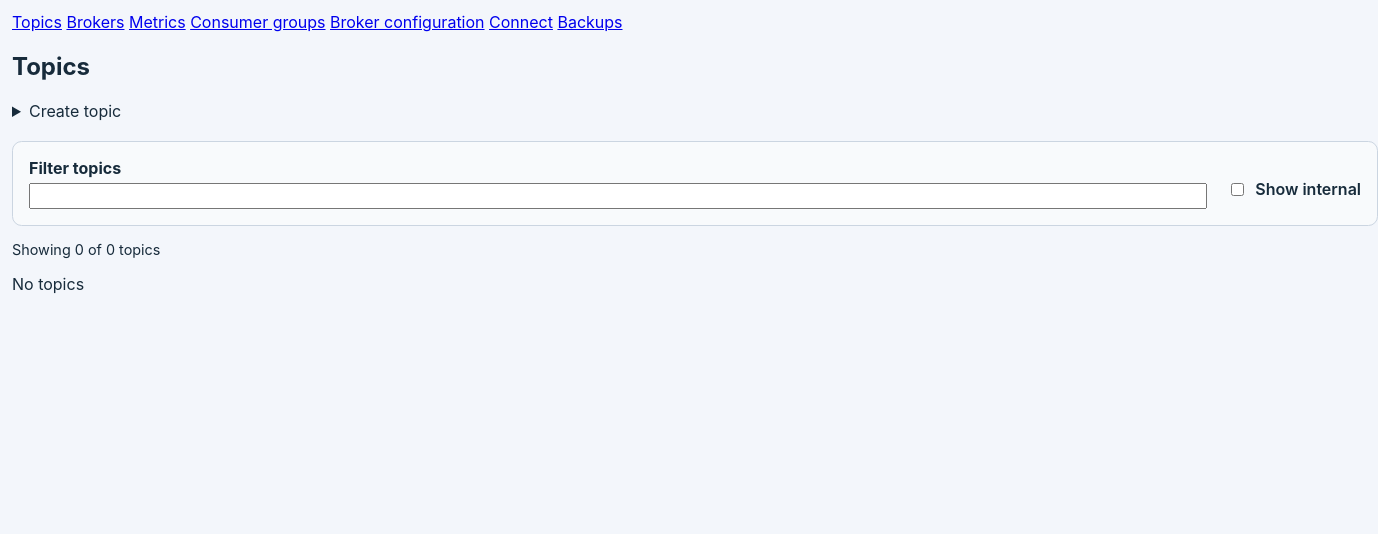
Scenario: ClusterPage › refreshes the topic list after creation
expect the text "No topics" is shown: met, box [12,274,84,294]
Click the heading "Create topic". click: point(75, 111)
box: [29,101,121,121]
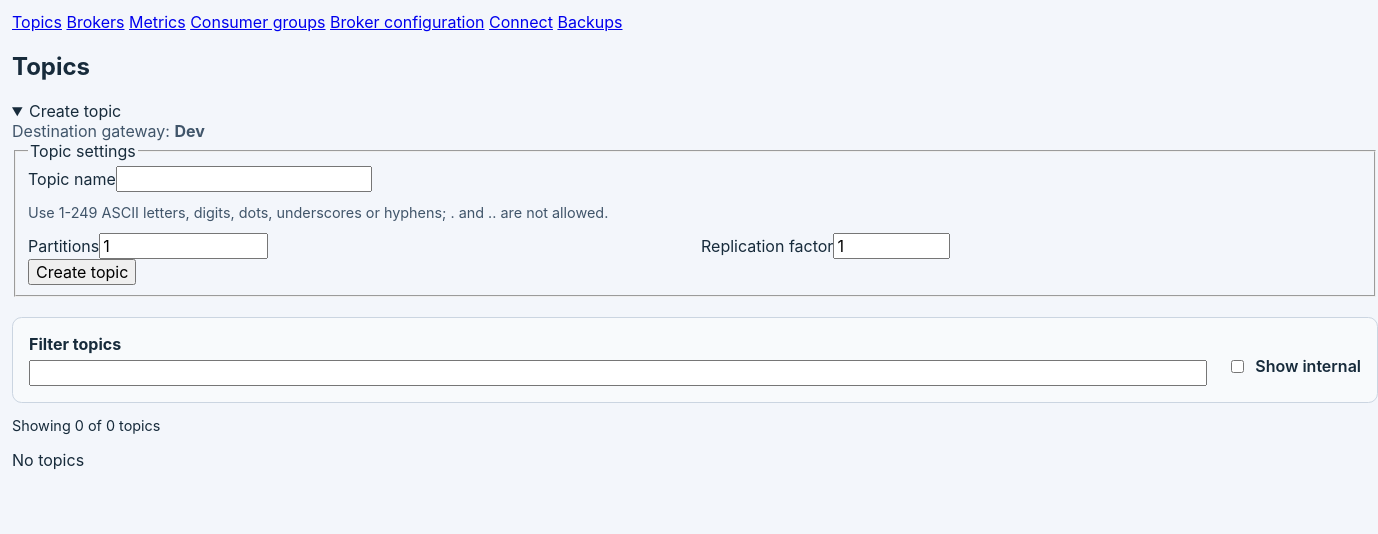
Type "orders" into the field labelled "Topic name". click: point(244, 179)
box: [116,166,372,192]
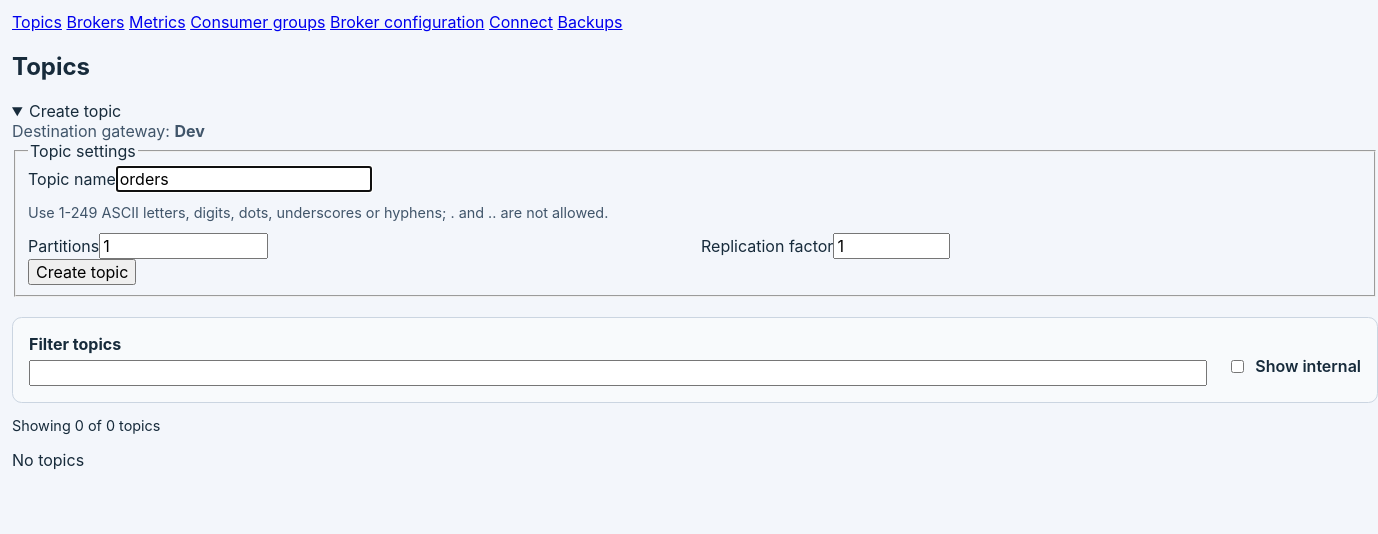
Click the button "Create topic". click: point(82, 272)
box: [28,259,136,285]
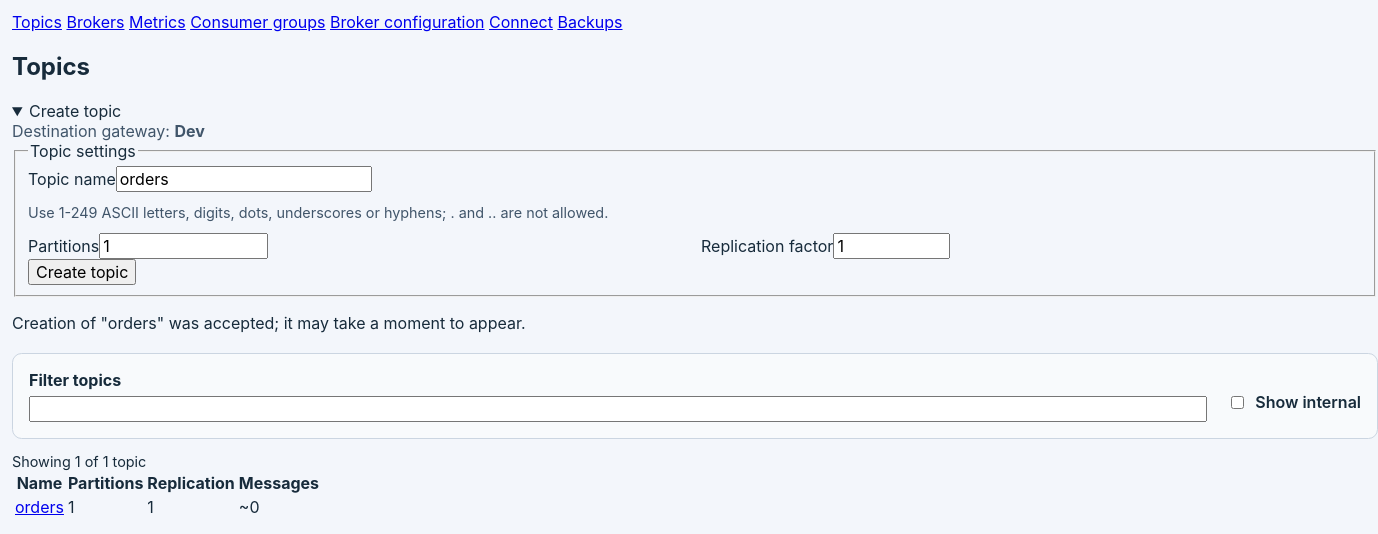
expect the link "orders" is shown: met, box [15,497,64,517]
